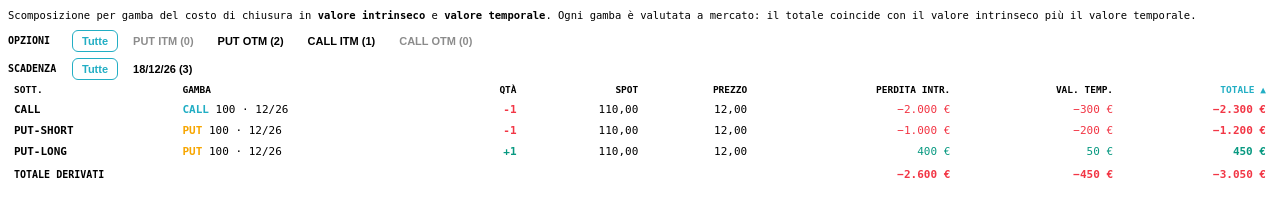
Test: NettingLegDetailTable: subtotali per moneyness e scadenza › filtra righe e importi con segno, mantiene il filtro ordinando e ripristina il totale
The width and height of the screenshot is (1280, 212).
Click the button "PUT OTM (2)".
click(251, 41)  # box [209,31,293,51]
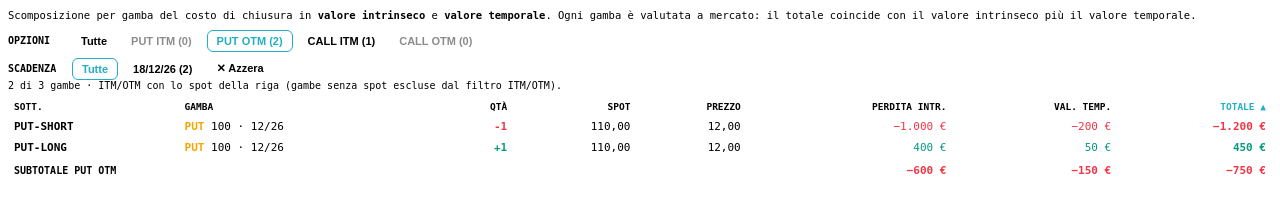
Now the button "PUT OTM (2)" is pressed, box [207,30,293,52]
Click the column heading "Sott.".
click(28, 106)  # box [8,97,178,116]
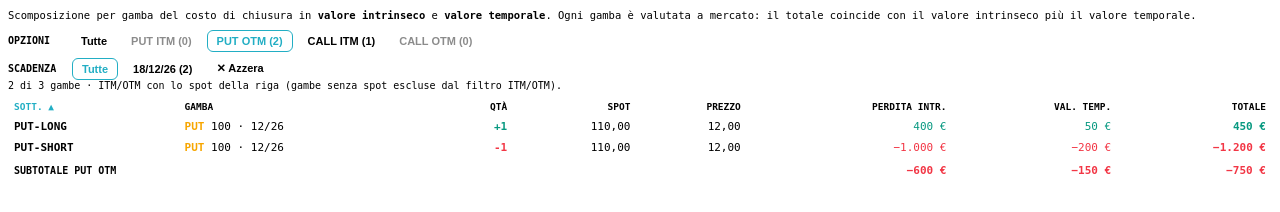
Click the button "CALL ITM (1)".
click(341, 41)  # box [299,31,384,51]
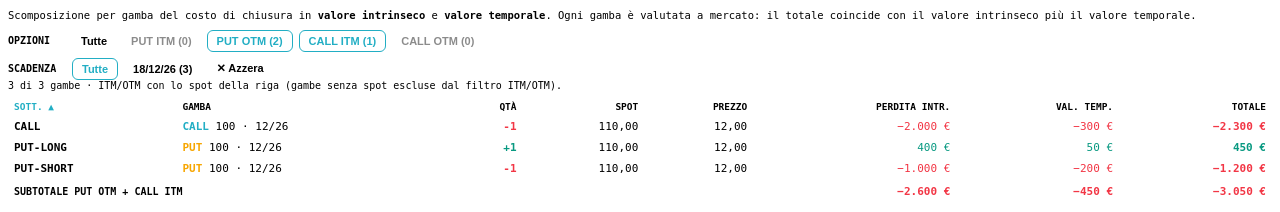
Click the button "PUT OTM (2)".
click(250, 41)  # box [207,30,293,52]
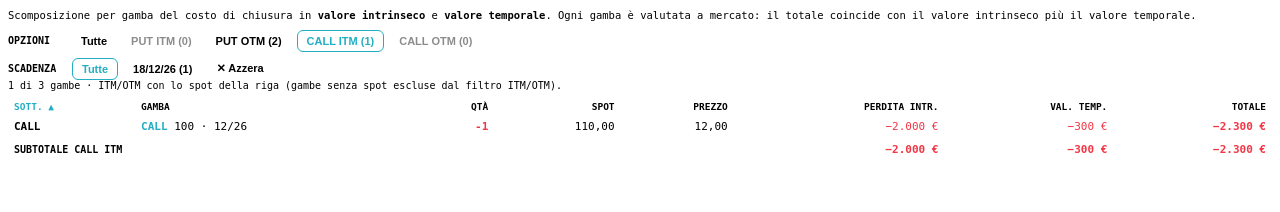
Now the text "PUT-SHORT" is gone
Click the button "Tutte" next to "Opzioni".
click(94, 41)  # box [72,31,116,51]
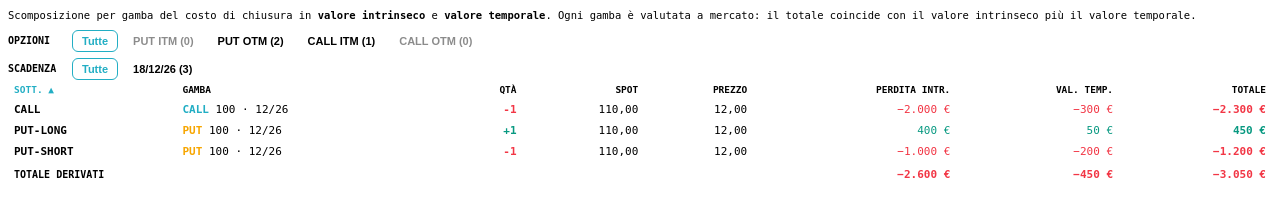
Now the text "PUT-SHORT" is shown, box [8,141,176,162]
